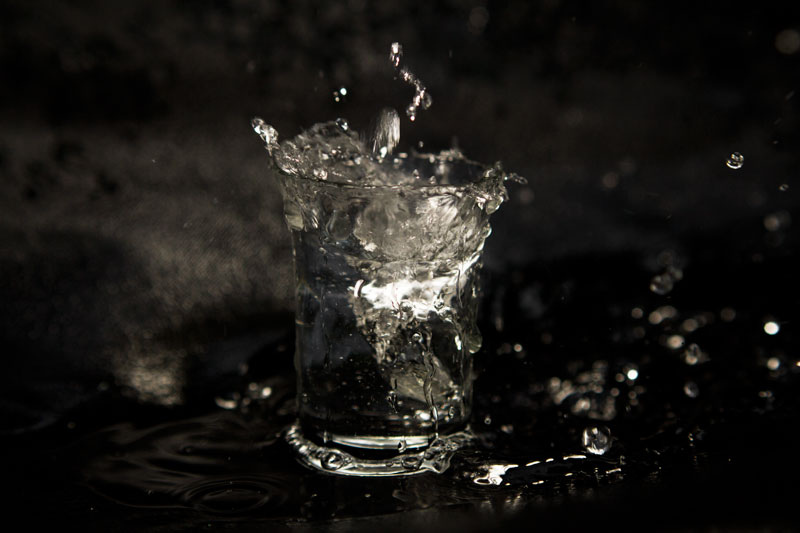glass of water: (283, 138, 470, 451)
